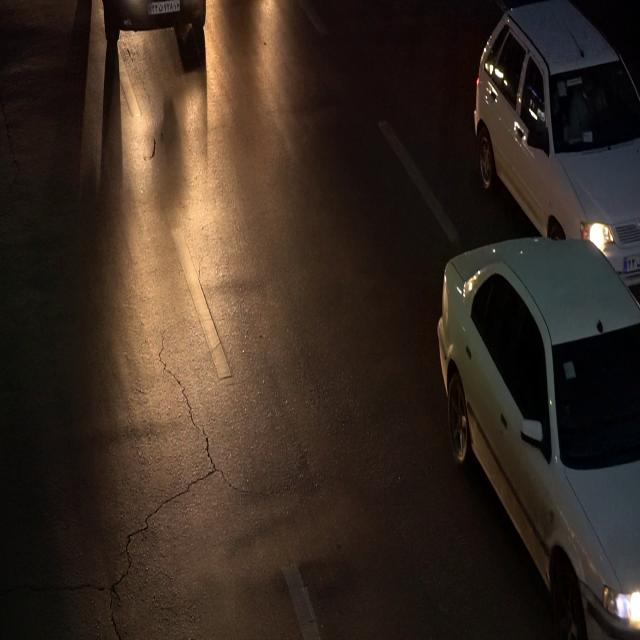car: (434, 241, 640, 637), (471, 4, 640, 288)
